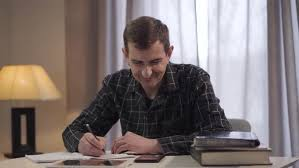white_male: (121, 32, 178, 91)
